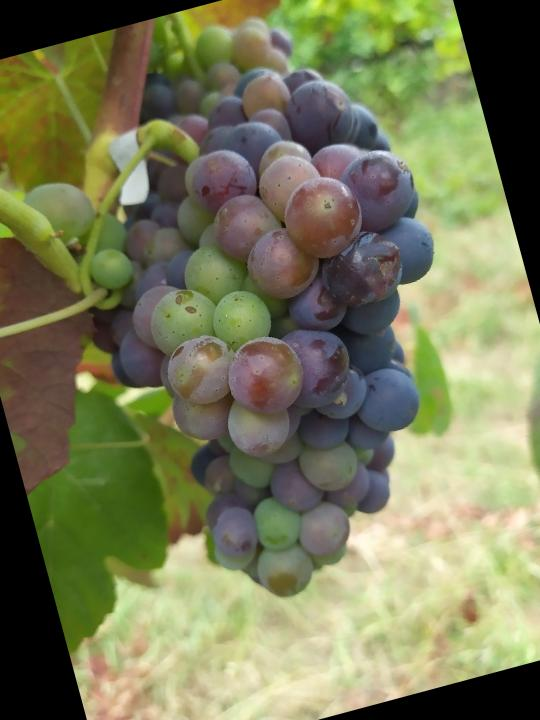grape: (53, 39, 519, 628)
